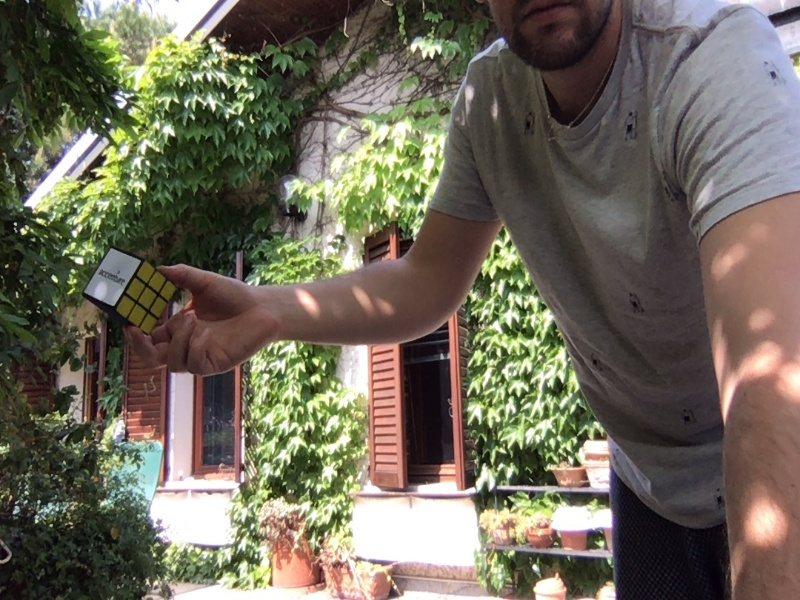rubik: (83, 245, 177, 335)
